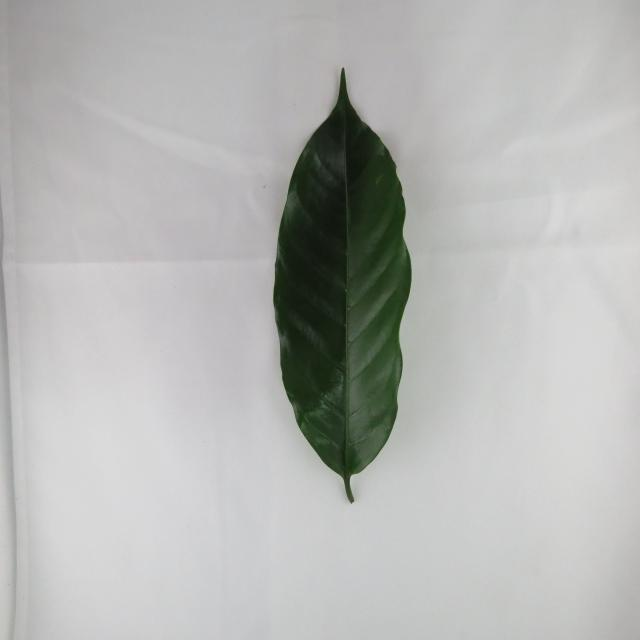DeficienciaNutricional-Calcio: (274, 70, 411, 502)
